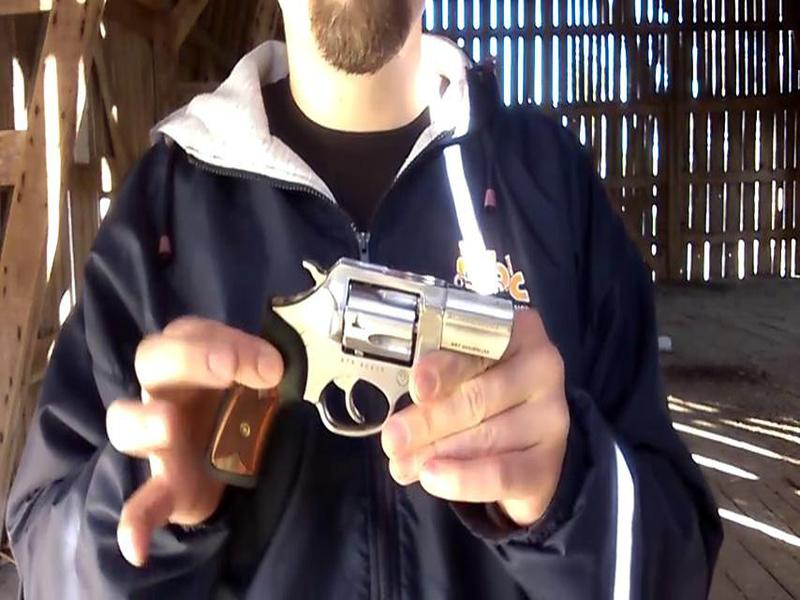Revolver: (175, 232, 544, 510)
